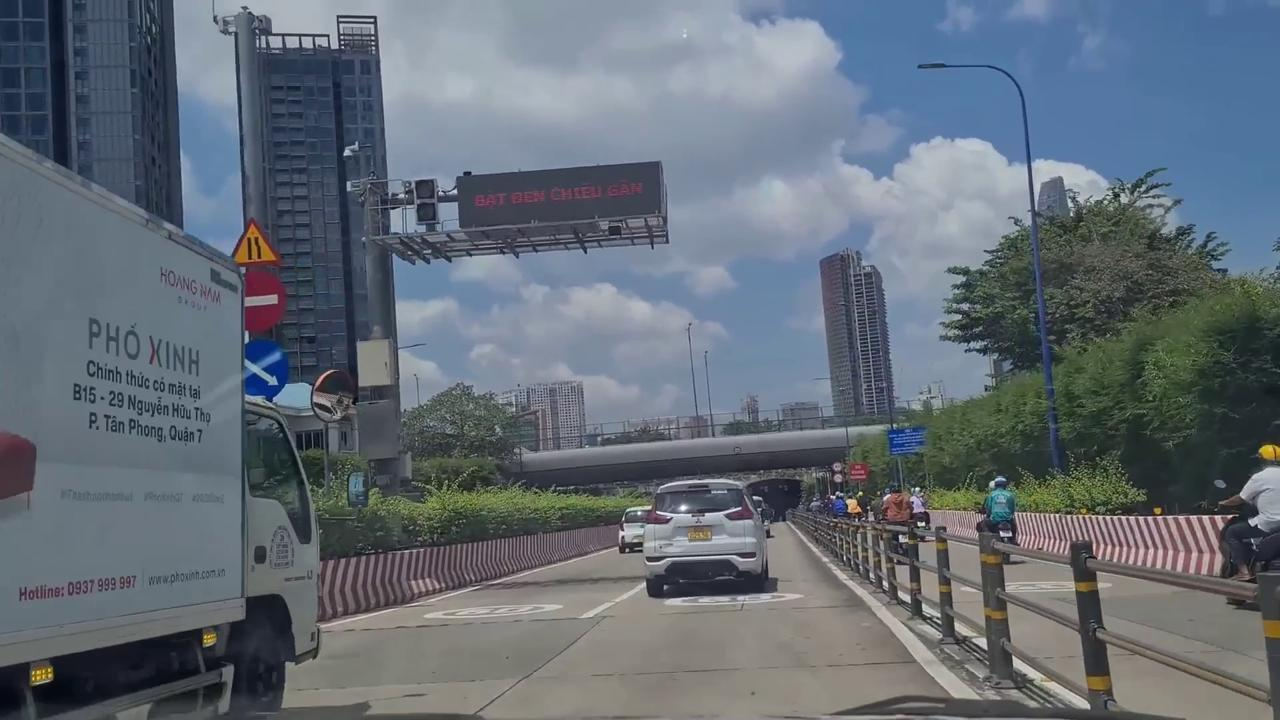Cấm đi ngược chiều: (231, 264, 286, 333)
Hướng phải đi vòng sang phải: (235, 338, 290, 400)
Đuờng hẹp: (226, 216, 281, 264)
